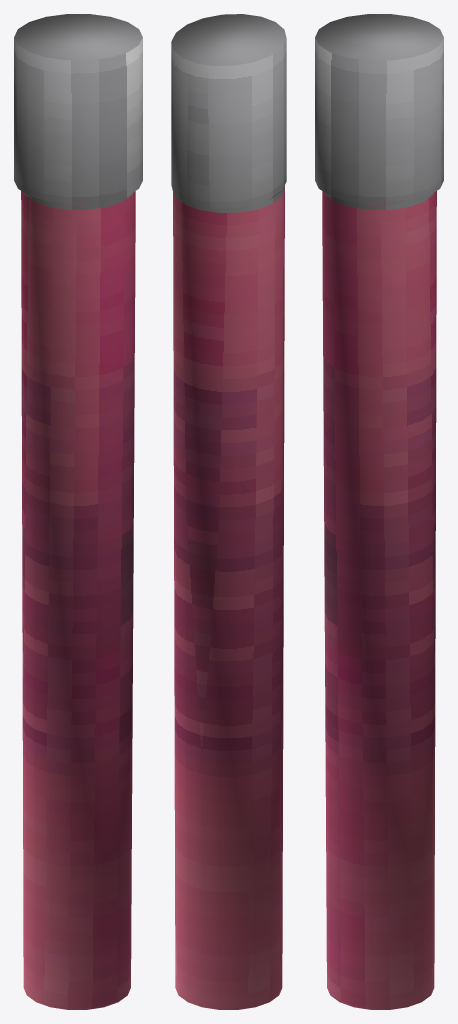
The model's file is HCRoadFlare.fbx.
The picture shows the model from 3 angles, left to right: view 1: azimuth 90°, elevation 25°; view 2: azimuth 150°, elevation 25°; view 3: azimuth 270°, elevation 25°; orthographic projection.
Visible parts, largest first — view 1: RoadFlare; view 2: RoadFlare; view 3: RoadFlare.
Boxes of the visible parts, box(x1,y1,x2,y2) form: RoadFlare: box(14, 14, 142, 1009); RoadFlare: box(171, 14, 286, 1009); RoadFlare: box(315, 14, 443, 1009).
Bounding box in the file's own units: 0.0184 × 0.1758 × 0.0216.
